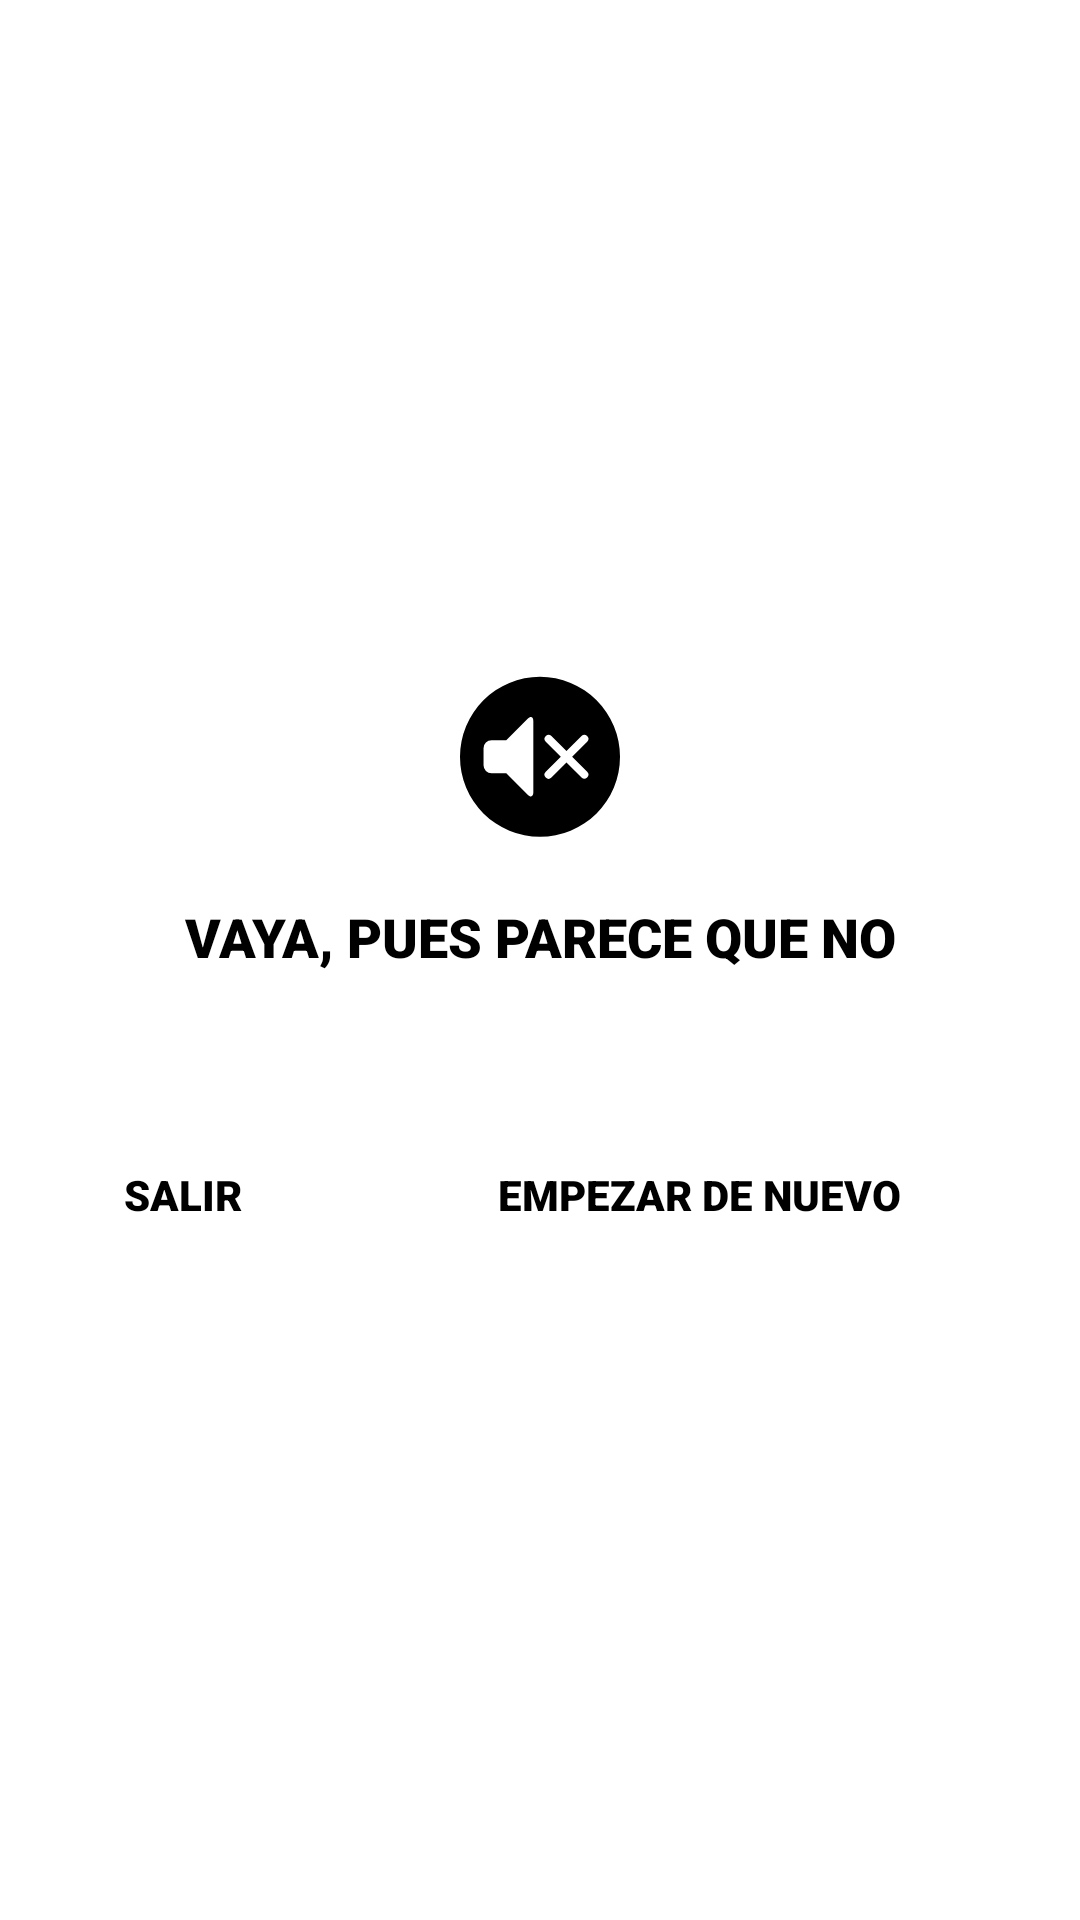

Named icons in this screenshot (1080×1920) and their bounding boxes, (x1, y1, x2, y2):
mute: (460, 676, 620, 837)
